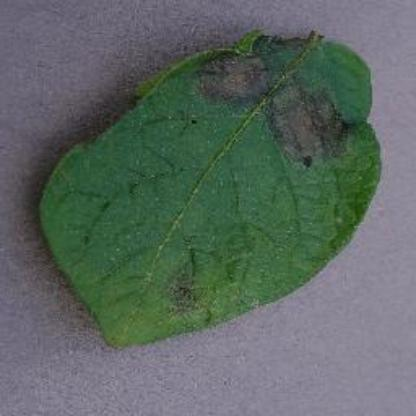Late-Blight: (20, 43, 404, 320)
